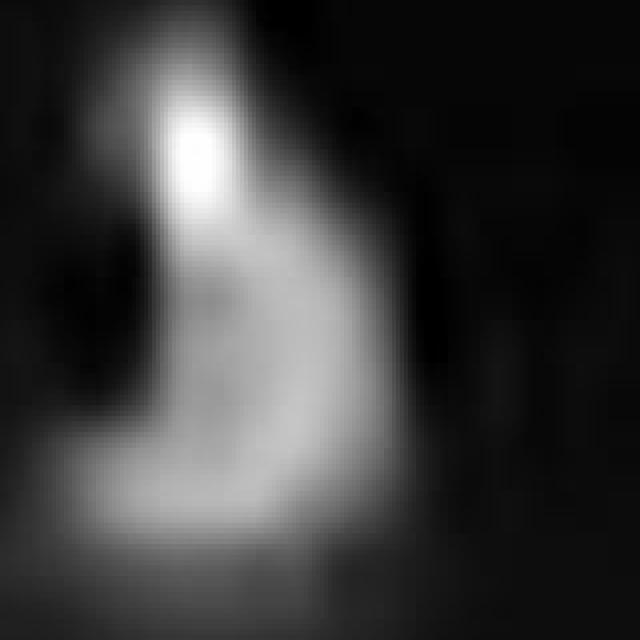person: (54, 7, 428, 622)
